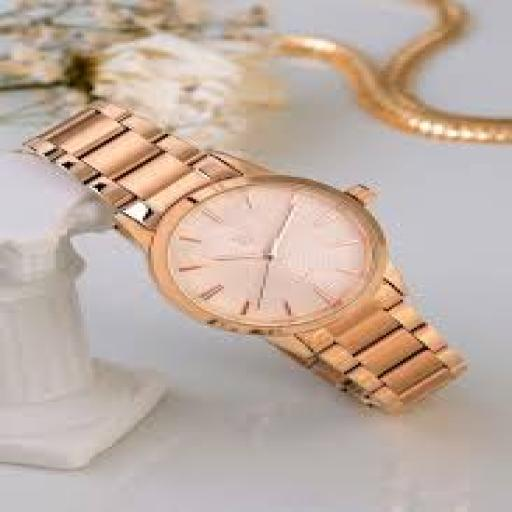KolSaati: (9, 63, 496, 438)
